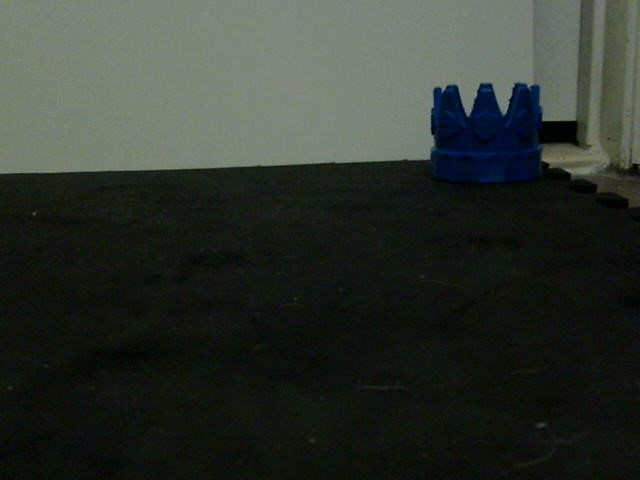crown: (427, 82, 546, 184)
